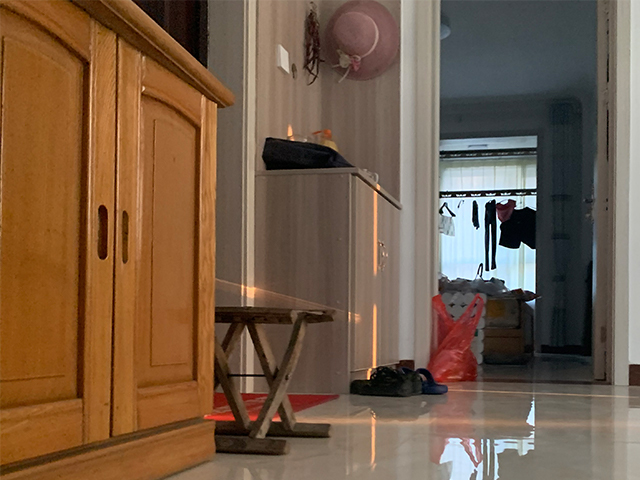cabinet: (1, 1, 236, 480), (251, 166, 403, 396)
carpet: (204, 390, 341, 423)
curtain: (537, 103, 577, 349)
slippers: (415, 367, 449, 396)
stool: (215, 305, 335, 458)
